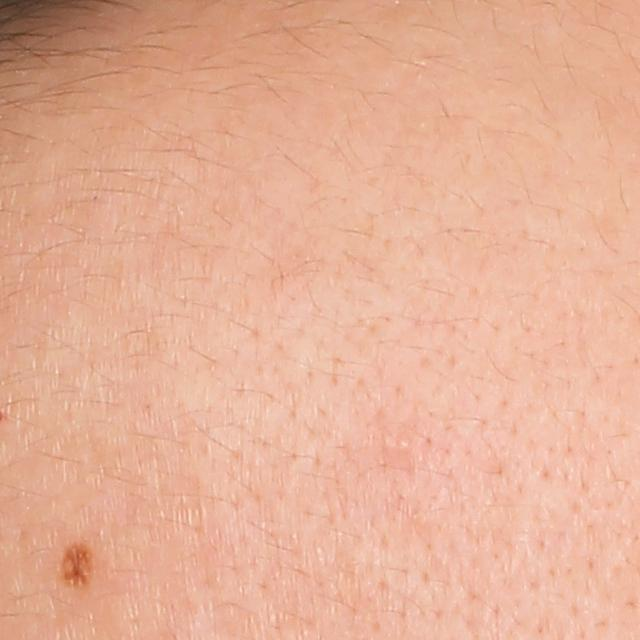comedo: (396, 435, 416, 450)
